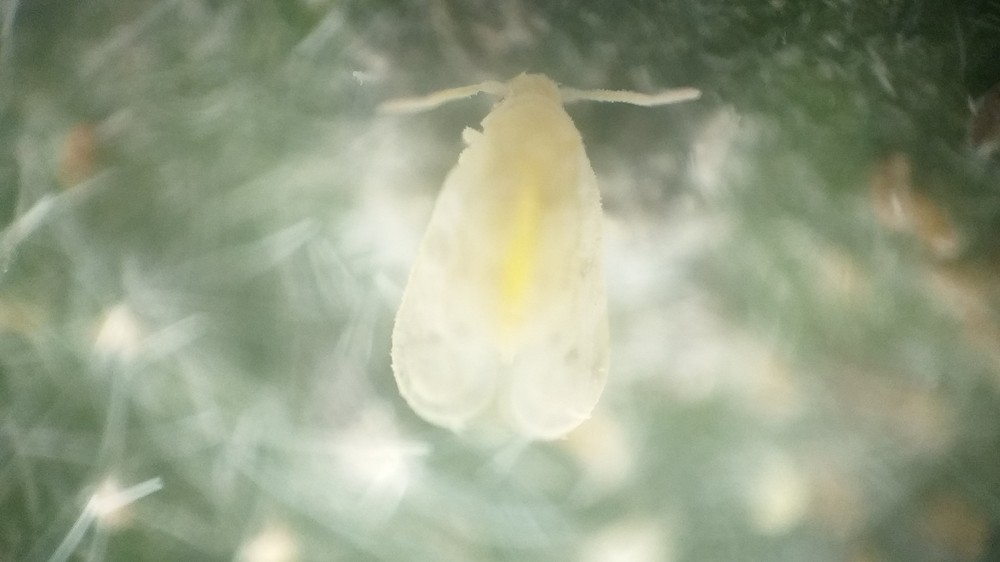Mosca Blanca: (344, 53, 721, 474)
